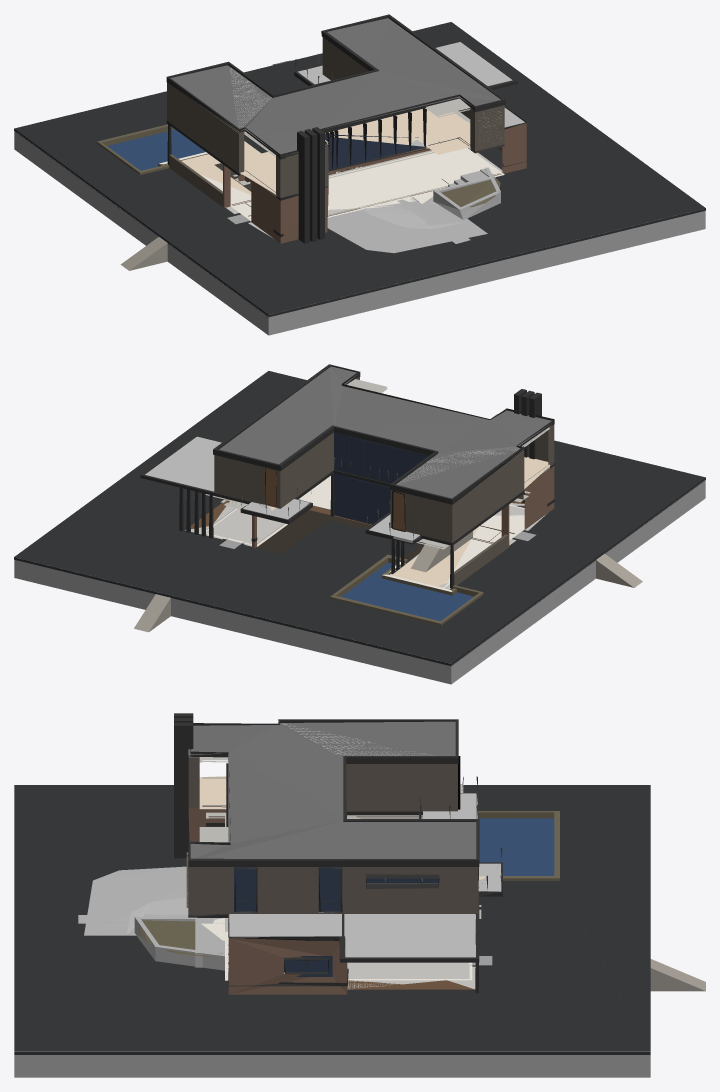
File: pool-villa.zfix-v14.lod1.glb
3 renders of one model, top to bottom at view 1: azimuth 30°, elevation 25°; view 2: azimuth 150°, elevation 25°; view 3: azimuth 270°, elevation 25°, orthographic. The views are drawn at different scales.
Visible parts, largest first — view 1: Box001_Material #8_0; view 2: Box001_Material #8_0; view 3: Box001_Material #8_0.
Part boxes in pixels (box(x1,y1,x2,y2)): Box001_Material #8_0: box(14, 14, 705, 335); Box001_Material #8_0: box(14, 364, 705, 684); Box001_Material #8_0: box(14, 713, 705, 1077).
Bounding box in the file's own units: 37.77 × 9.64 × 38.06.
